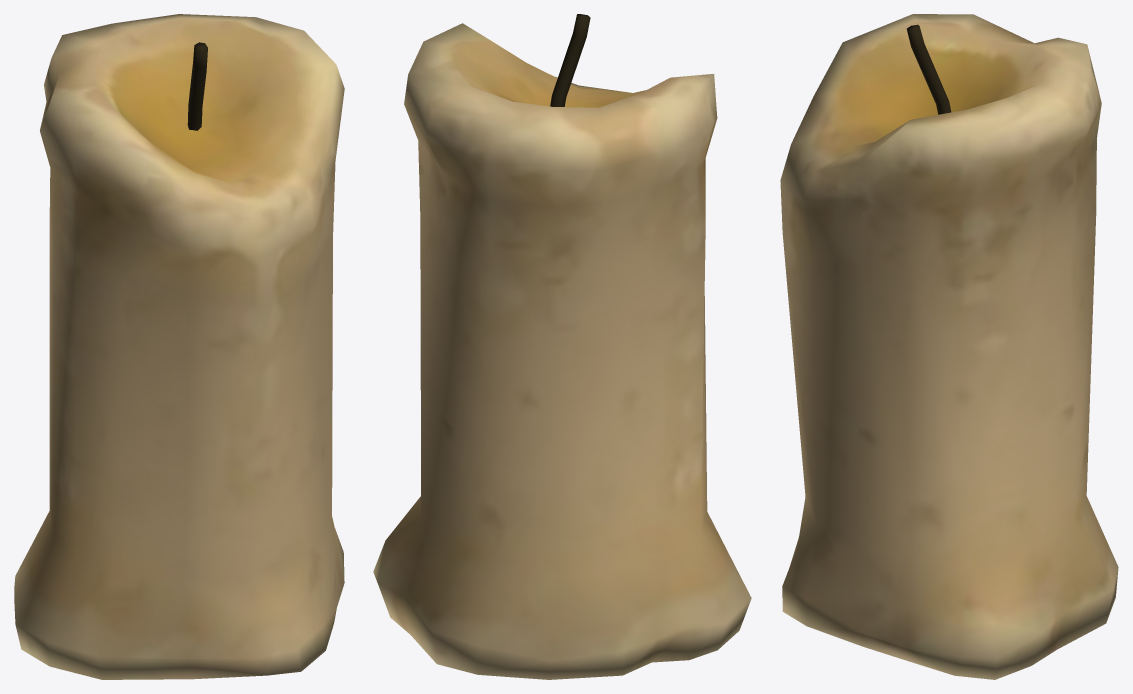
The model's file is candlelarge_lit.glb.
The picture shows the model from 3 angles, left to right: view 1: azimuth 30°, elevation 25°; view 2: azimuth 150°, elevation 25°; view 3: azimuth 270°, elevation 25°; orthographic projection. The views are drawn at different scales.
Visible parts, largest first — view 1: candleLarge_lit; view 2: candleLarge_lit; view 3: candleLarge_lit.
Part boxes in pixels (left/top/right/bottom): candleLarge_lit: left=14, top=14, right=344, bottom=679; candleLarge_lit: left=373, top=14, right=751, bottom=679; candleLarge_lit: left=780, top=14, right=1118, bottom=679.
Size of the model in its own units: 0.1556 by 0.2677 by 0.1407.
1 material, 1 textured.
